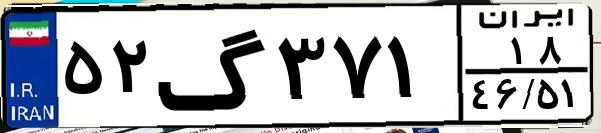1: (385, 28, 445, 110), (560, 70, 590, 125), (508, 27, 537, 80)
2: (110, 28, 156, 98)
3: (270, 28, 330, 110)
4: (470, 70, 495, 125)
5: (57, 26, 110, 100), (535, 70, 560, 125)
6: (495, 70, 520, 125)
7: (330, 28, 385, 110)
8: (537, 27, 568, 80)
گ: (156, 12, 270, 120)
